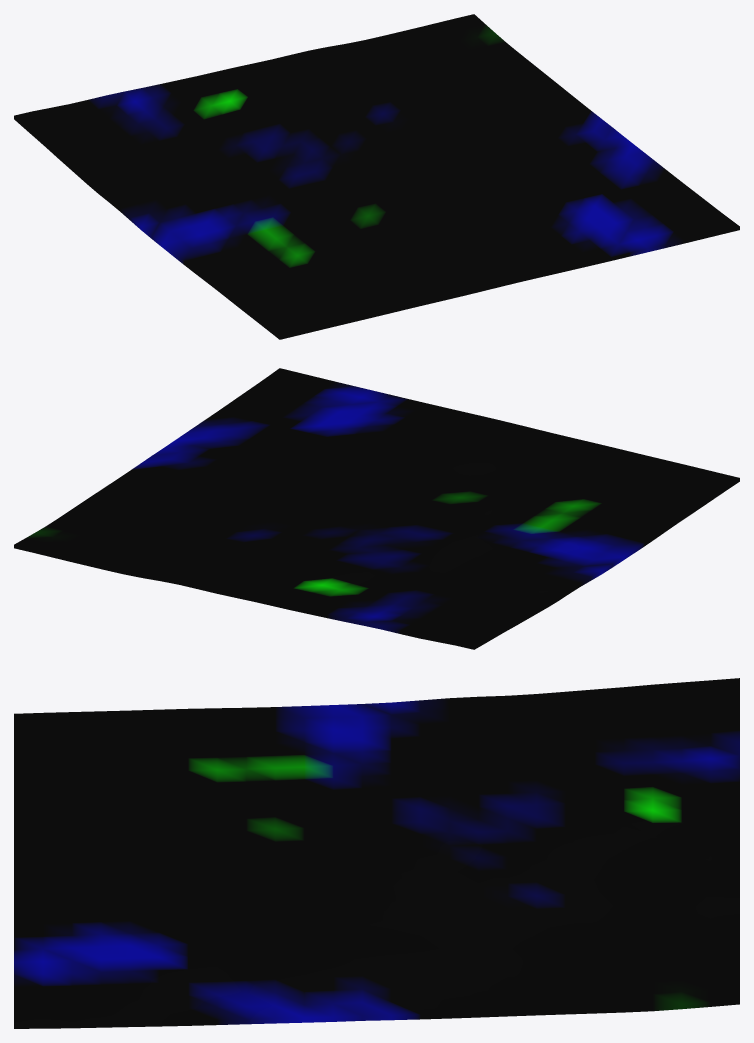
Rendered from coast_9_6.glb.
3 views of the same model, one above another, from view 1: azimuth 30°, elevation 25°; view 2: azimuth 150°, elevation 25°; view 3: azimuth 270°, elevation 25° (orthographic). The views are drawn at different scales.
Parts seen in each view (by area): view 1: terrain; view 2: terrain; view 3: terrain.
Part boxes in pixels (x1,y1,x2,y2): terrain: [14, 14, 739, 339]; terrain: [14, 368, 739, 649]; terrain: [14, 678, 739, 1028].
Size of the model in its own units: 200 by 13.38 by 200.
